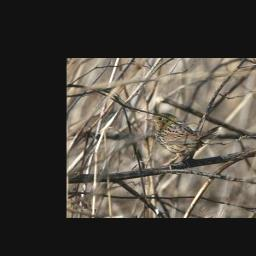Sparrow: (144, 111, 222, 170)
